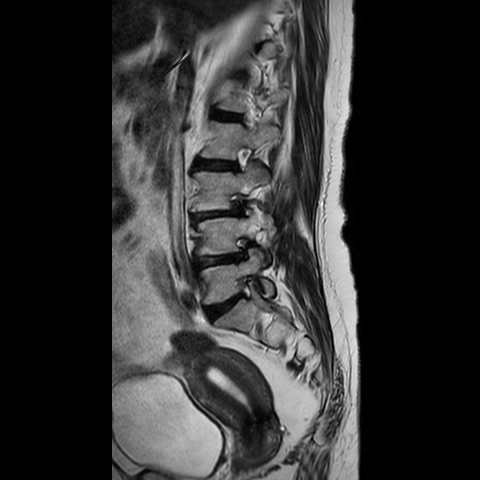RFS0: (224, 135, 265, 184)
